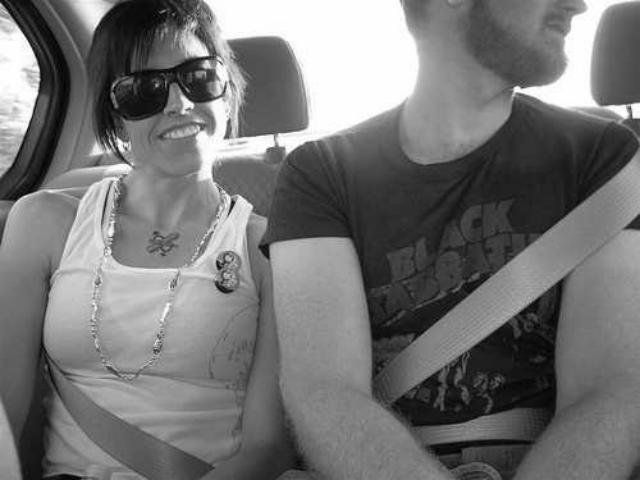Seatbelt: (364, 138, 640, 480)
